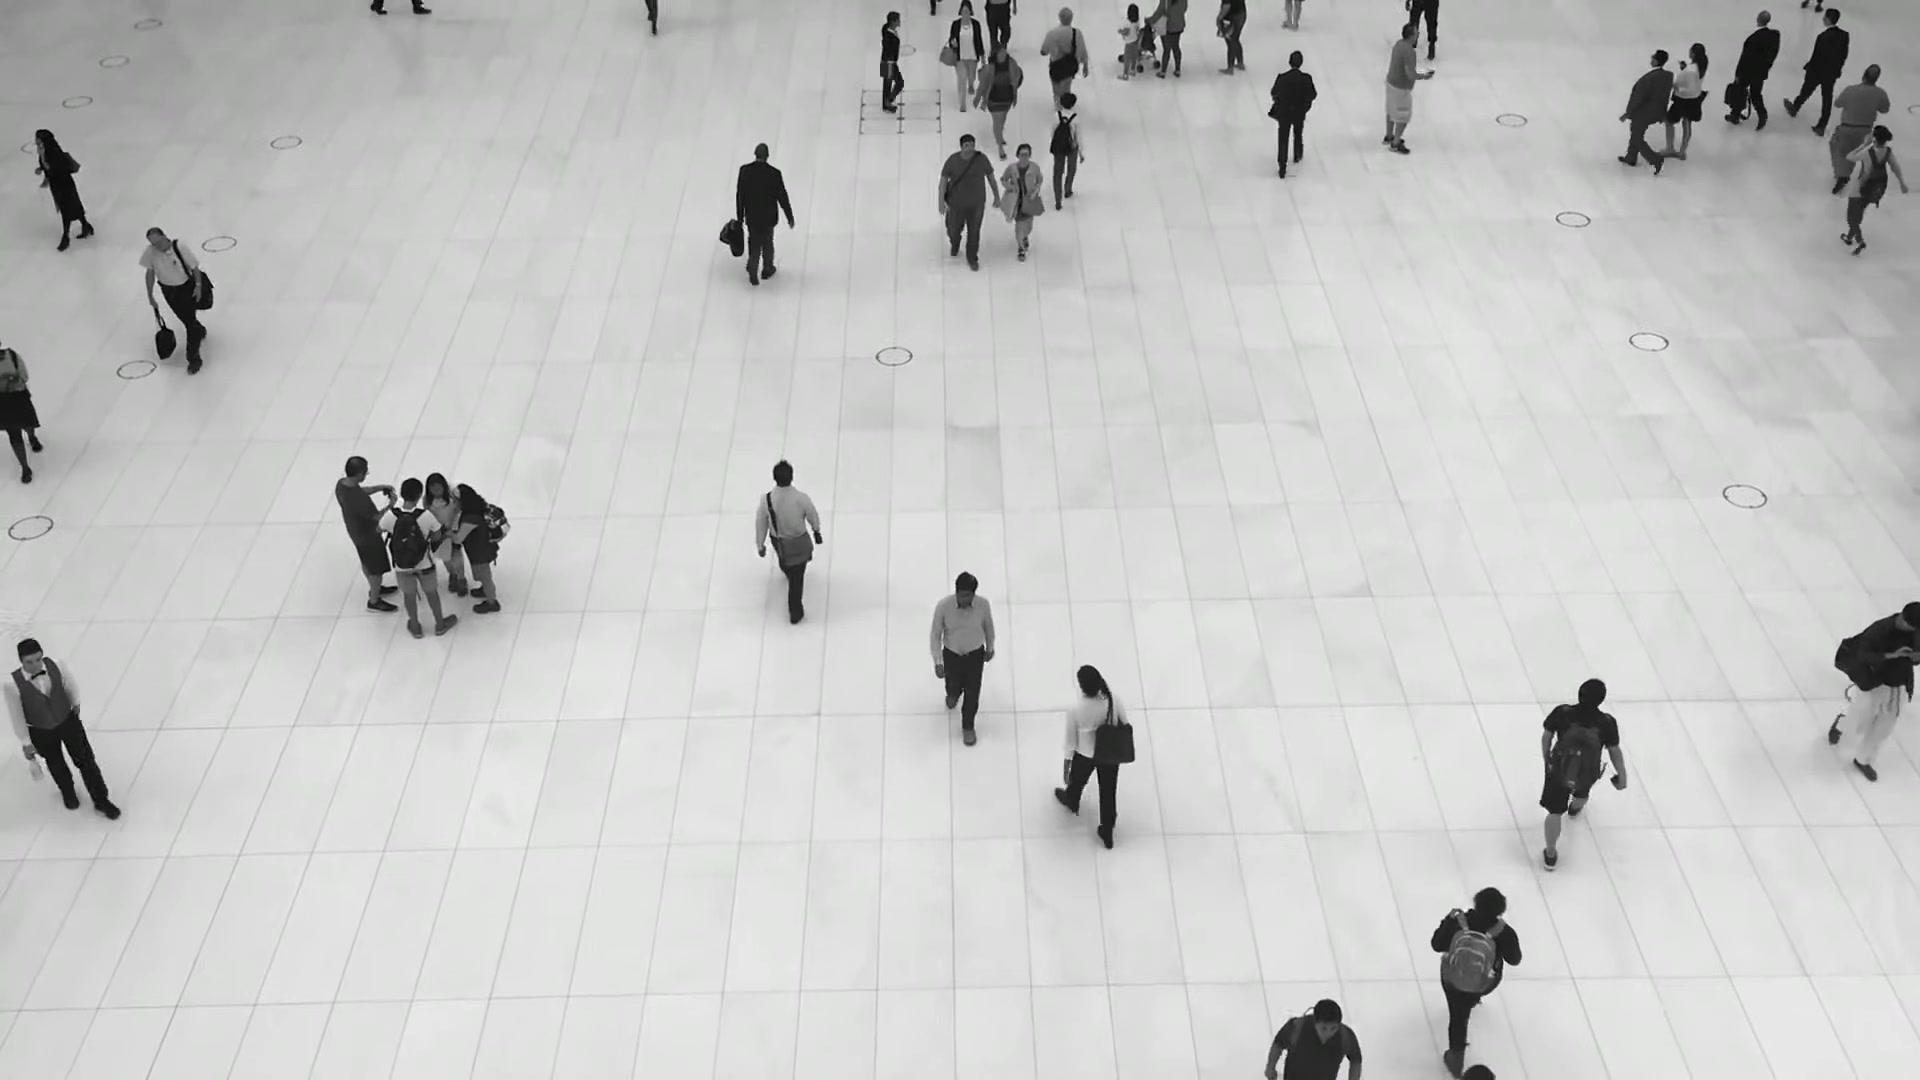person: (0, 637, 128, 825), (1432, 884, 1524, 1076), (1541, 675, 1625, 868), (1836, 601, 1920, 783), (1049, 664, 1126, 853), (379, 477, 460, 635), (929, 572, 999, 750), (753, 456, 823, 617), (138, 225, 213, 368), (333, 455, 399, 608), (930, 133, 999, 276), (1837, 124, 1908, 258), (1260, 997, 1363, 1080), (1822, 61, 1890, 187), (735, 142, 791, 290), (32, 127, 94, 251), (1719, 9, 1781, 129), (1789, 7, 1848, 134), (449, 481, 502, 613), (1617, 47, 1673, 173), (1380, 23, 1429, 155), (1652, 44, 1707, 166), (1269, 50, 1318, 183), (422, 469, 469, 592), (1000, 143, 1044, 267), (1040, 4, 1090, 111), (975, 43, 1021, 157), (1047, 89, 1087, 205), (873, 12, 918, 113), (947, 0, 985, 110), (1115, 3, 1139, 80)
